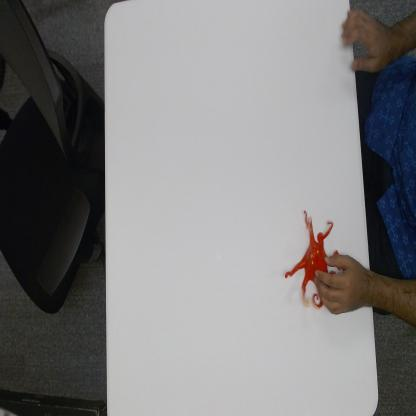Octopus: (285, 208, 339, 312), (313, 249, 374, 316)
